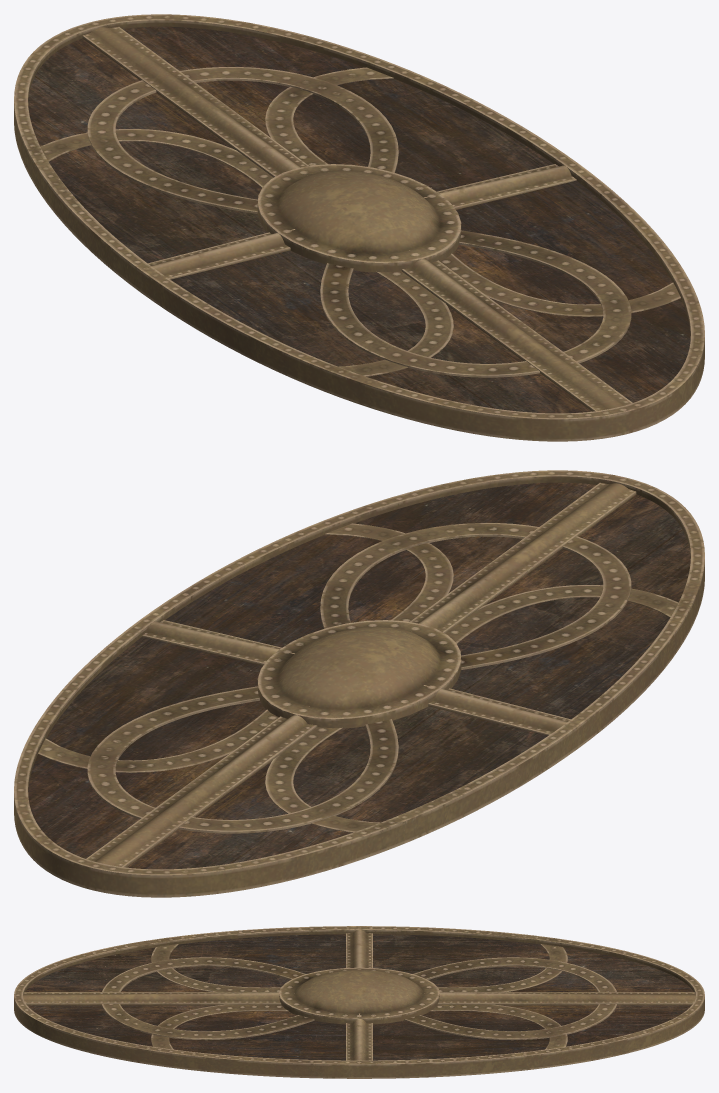
The model's file is dunland_wulf_shield_heavy_f.fbx.
3 views of the same model, one above another, from view 1: azimuth 30°, elevation 25°; view 2: azimuth 150°, elevation 25°; view 3: azimuth 270°, elevation 25° (orthographic). The views are drawn at different scales.
Parts seen in each view (by area): view 1: dunland_wulf_shield_heavy_f; view 2: dunland_wulf_shield_heavy_f; view 3: dunland_wulf_shield_heavy_f.
Boxes of the visible parts, left/top/right/bottom form: dunland_wulf_shield_heavy_f: left=14, top=14, right=704, bottom=441; dunland_wulf_shield_heavy_f: left=14, top=470, right=704, bottom=897; dunland_wulf_shield_heavy_f: left=14, top=926, right=704, bottom=1078.
Bounding box in the file's own units: 0.7189 × 1.52 × 0.0806.
Materials: 1 (1 with a texture image).
